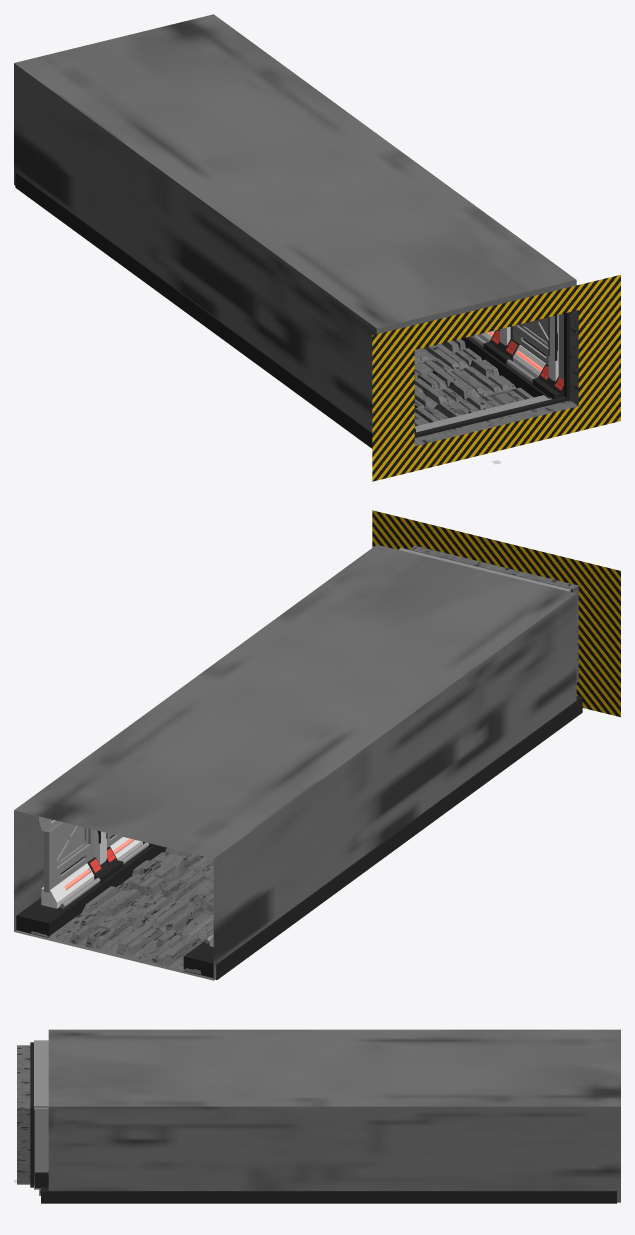
The model's file is controller_visualiser_map.gltf.
3 views of the same model, one above another, from view 1: azimuth 30°, elevation 25°; view 2: azimuth 150°, elevation 25°; view 3: azimuth 270°, elevation 25° (orthographic). The views are drawn at different scales.
Visible parts, largest first — view 1: Cube, Cube.001, Cube.023, discombobulated_mesh, Cube.004, border.002, Cube.018; view 2: Cube, discombobulated_mesh, Cube.001, Cube.023, Cube.004, Cube.007; view 3: Cube, Cube.023, Cube.018, Cube.024, border.001.
Boxes of the visible parts, x1,y1,x2,y2 form: Cube: [14, 14, 578, 446]; Cube.001: [372, 274, 620, 481]; Cube.023: [15, 172, 550, 448]; discombobulated_mesh: [414, 339, 533, 426]; Cube.004: [512, 320, 548, 364]; border.002: [414, 396, 569, 437]; Cube.018: [414, 395, 551, 432]; Cube: [14, 545, 578, 980]; discombobulated_mesh: [31, 847, 213, 974]; Cube.001: [372, 510, 620, 717]; Cube.023: [16, 696, 582, 979]; Cube.004: [44, 822, 94, 892]; Cube.007: [41, 863, 213, 946]; Cube: [17, 1029, 620, 1202]; Cube.023: [41, 1187, 616, 1203]; Cube.018: [34, 1040, 48, 1189]; Cube.024: [34, 1108, 48, 1186]; border.001: [30, 1111, 34, 1183].
Size of the model in its own units: 72.88 by 44.06 by 195.
Materials: 7 (2 with a texture image).
